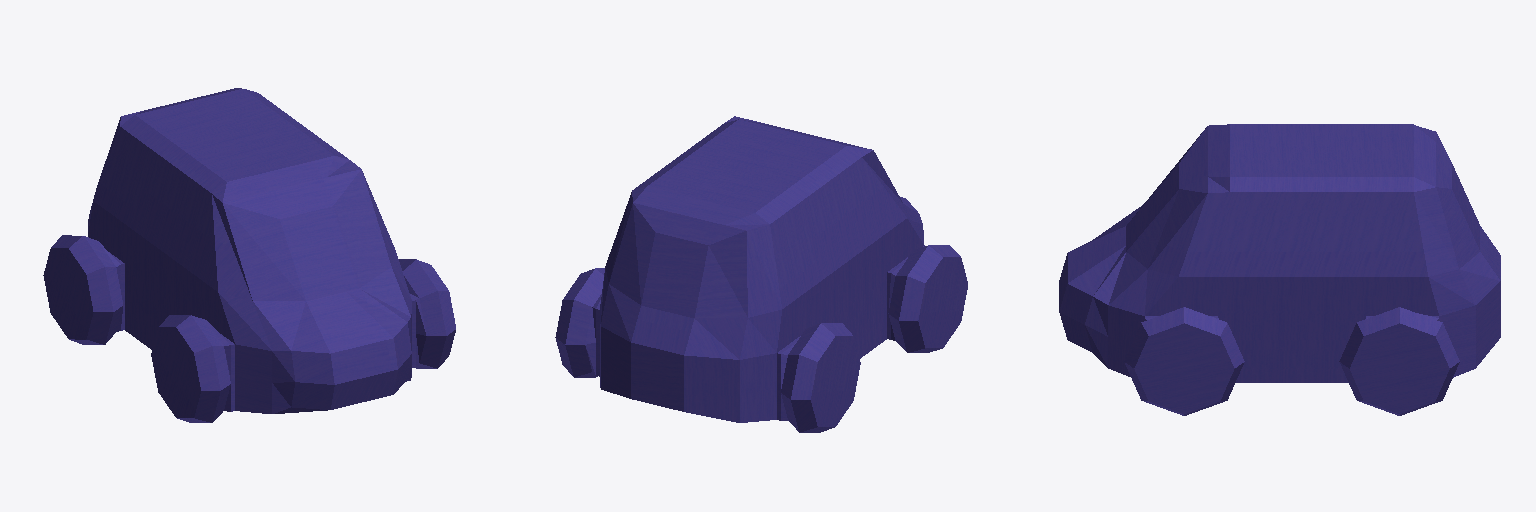
The picture shows the model from 3 angles: view 1: azimuth 30°, elevation 25°; view 2: azimuth 150°, elevation 25°; view 3: azimuth 270°, elevation 25°; orthographic projection.
Visible parts, largest first — view 1: Cube; view 2: Cube; view 3: Cube.
Boxes of the visible parts, x1,y1,x2,y2 form: Cube: [43, 88, 455, 422]; Cube: [555, 116, 967, 432]; Cube: [1059, 124, 1500, 415].
Size of the model in its own units: 2 by 1.58 by 3.
Materials: 1 (1 with a texture image).